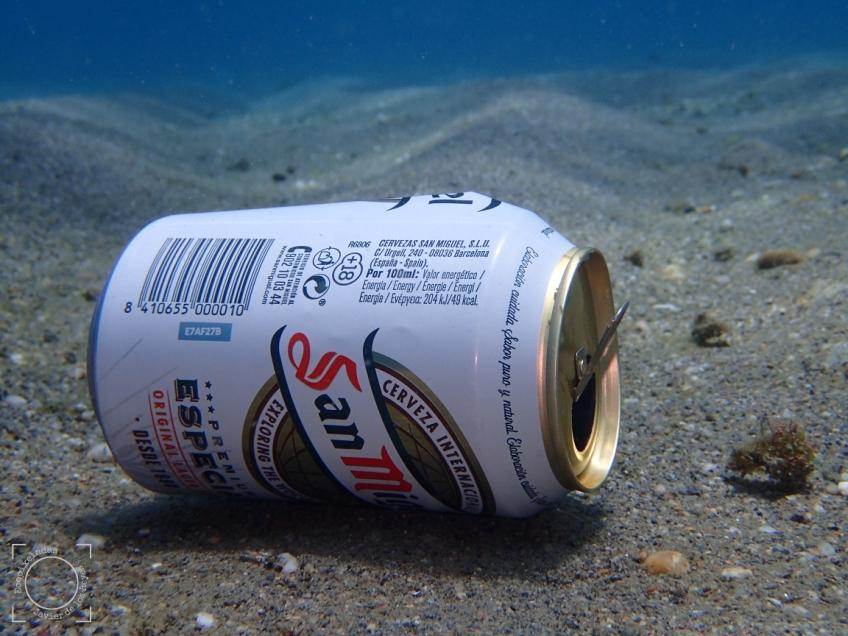Metal: (81, 182, 629, 522)
